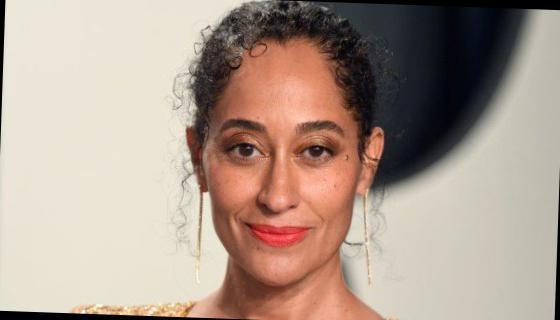Sober: (211, 39, 350, 271)
